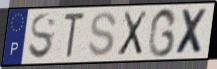G: (146, 6, 179, 59)
S: (86, 11, 119, 59), (27, 12, 57, 62)
T: (62, 12, 87, 61)
X: (174, 8, 210, 56), (116, 9, 149, 58)
